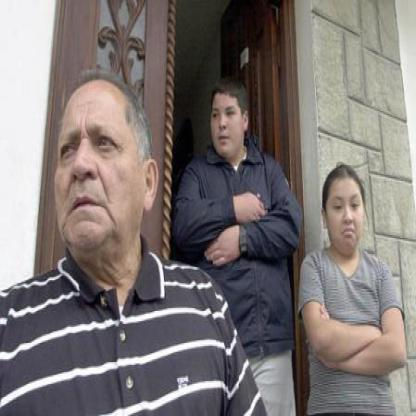face: (53, 81, 148, 258), (328, 176, 366, 252), (212, 82, 248, 158)
